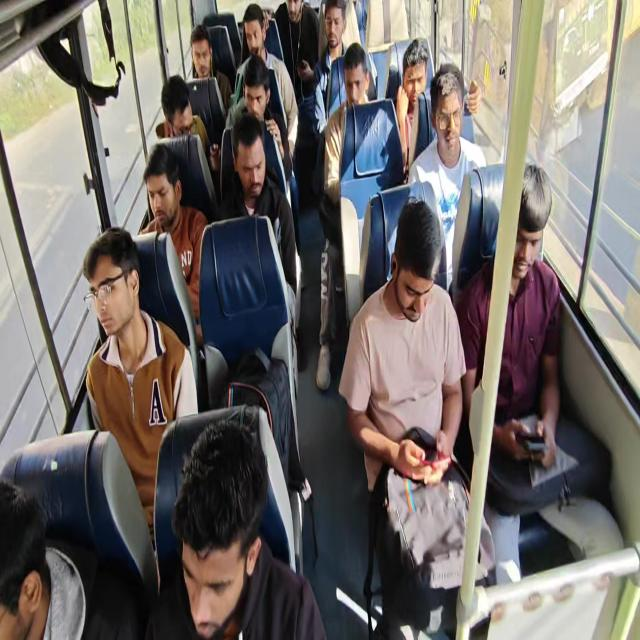person: (456, 161, 624, 591), (338, 197, 496, 638), (144, 416, 327, 639), (83, 226, 198, 554), (315, 42, 371, 391), (216, 113, 298, 340), (406, 66, 487, 291), (138, 143, 208, 345), (0, 478, 86, 639), (233, 3, 299, 159), (224, 54, 292, 188), (158, 74, 220, 172), (394, 38, 432, 180), (272, 0, 320, 110), (314, 1, 348, 133), (186, 24, 232, 114)
